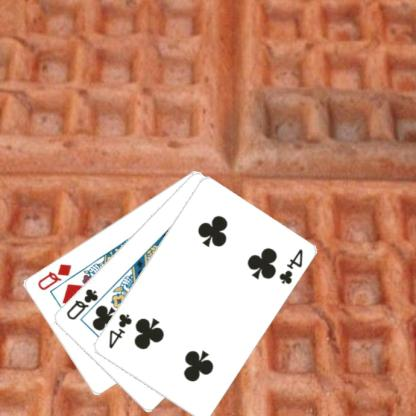4C: (277, 246, 306, 286), (107, 310, 135, 350)
QC: (65, 286, 101, 321)
QD: (36, 261, 74, 292)
